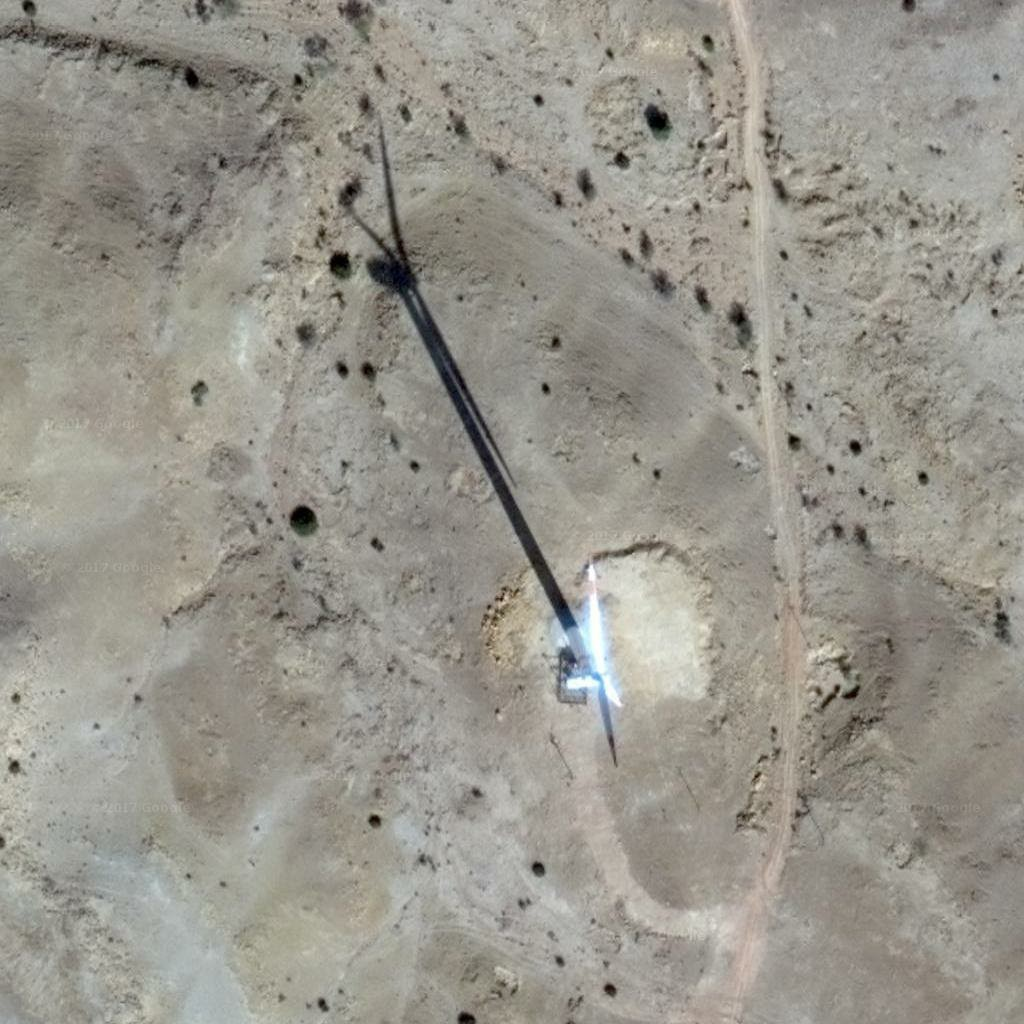Windmill: (324, 113, 608, 662)
